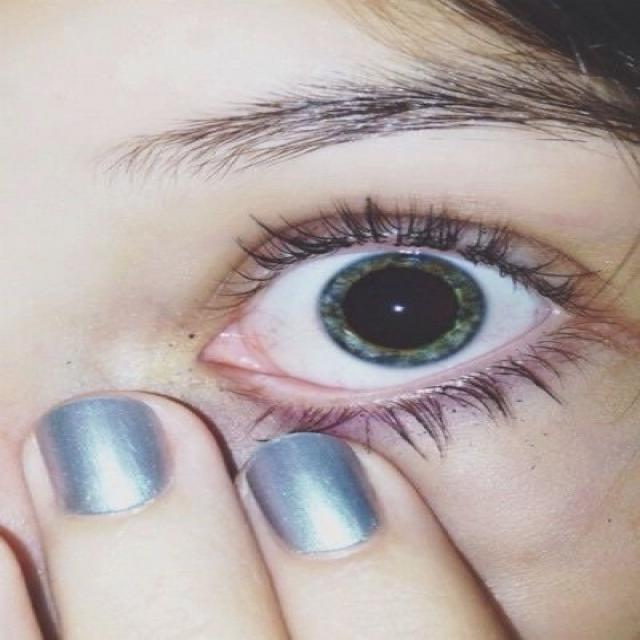eye: (198, 200, 578, 424)
